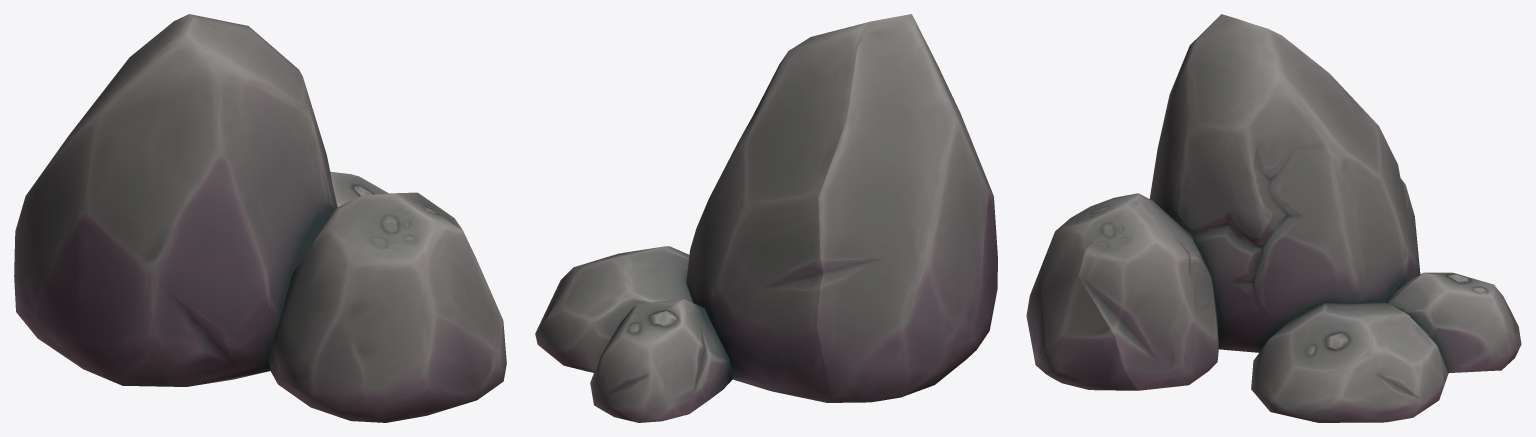
File: Stone.fbx
The picture shows the model from 3 angles, left to right: view 1: azimuth 30°, elevation 25°; view 2: azimuth 150°, elevation 25°; view 3: azimuth 270°, elevation 25°; orthographic projection. The views are drawn at different scales.
Visible parts, largest first — view 1: Rocks_v02_LP2:Group11652; view 2: Rocks_v02_LP2:Group11652; view 3: Rocks_v02_LP2:Group11652.
Part boxes in pixels (left/top/right/bottom): Rocks_v02_LP2:Group11652: left=14, top=14, right=506, bottom=422; Rocks_v02_LP2:Group11652: left=535, top=14, right=997, bottom=422; Rocks_v02_LP2:Group11652: left=1026, top=14, right=1521, bottom=422.
Bounding box in the file's own units: 6.11 × 4.84 × 7.45.
